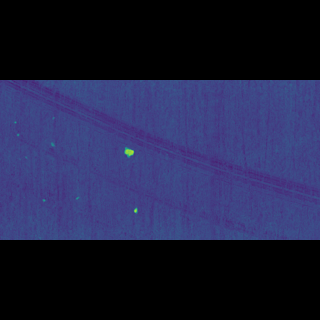Loch: (1, 117, 320, 185), (14, 144, 304, 200), (122, 152, 136, 160), (132, 183, 139, 188)
